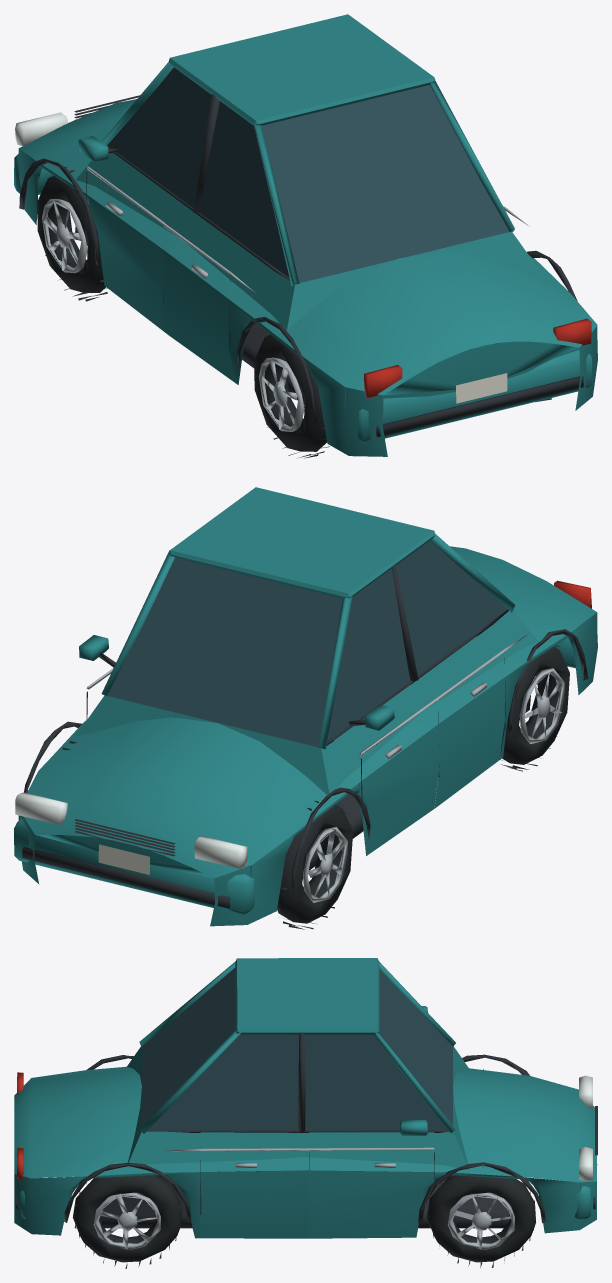
The picture shows the model from 3 angles, top to bottom: view 1: azimuth 30°, elevation 25°; view 2: azimuth 150°, elevation 25°; view 3: azimuth 270°, elevation 25°; orthographic projection. The views are drawn at different scales.
Parts seen in each view (by area): view 1: compact_car_body, compact_car_front_left_door, compact_car_rear_left_door, compact_car_rear_left_wheel, compact_car_front_left_wheel; view 2: compact_car_body, compact_car_front_left_door, compact_car_rear_left_door, compact_car_front_left_wheel, compact_car_rear_left_wheel, compact_car_front_right_door; view 3: compact_car_body, compact_car_front_right_door, compact_car_rear_right_door, compact_car_rear_right_wheel, compact_car_front_right_wheel.
Boxes of the visible parts, x1=… form: compact_car_body: x1=14, y1=14, x2=597, y2=456; compact_car_front_left_door: x1=78, y1=67, x2=211, y2=333; compact_car_rear_left_door: x1=162, y1=101, x2=270, y2=382; compact_car_rear_left_wheel: x1=254, y1=334, x2=329, y2=458; compact_car_front_left_wheel: x1=37, y1=166, x2=112, y2=301; compact_car_body: x1=14, y1=487, x2=597, y2=926; compact_car_front_left_door: x1=330, y1=570, x2=439, y2=855; compact_car_rear_left_door: x1=389, y1=540, x2=505, y2=808; compact_car_front_left_wheel: x1=277, y1=800, x2=352, y2=929; compact_car_rear_left_wheel: x1=500, y1=645, x2=569, y2=771; compact_car_front_right_door: x1=79, y1=635, x2=115, y2=719; compact_car_body: x1=14, y1=958, x2=597, y2=1238; compact_car_front_right_door: x1=309, y1=1034, x2=434, y2=1238; compact_car_rear_right_door: x1=200, y1=1034, x2=309, y2=1238; compact_car_rear_right_wheel: x1=72, y1=1173, x2=182, y2=1268; compact_car_front_right_wheel: x1=427, y1=1166, x2=535, y2=1267.
Bounding box in the file's own units: 1.69 × 1.49 × 3.49.
